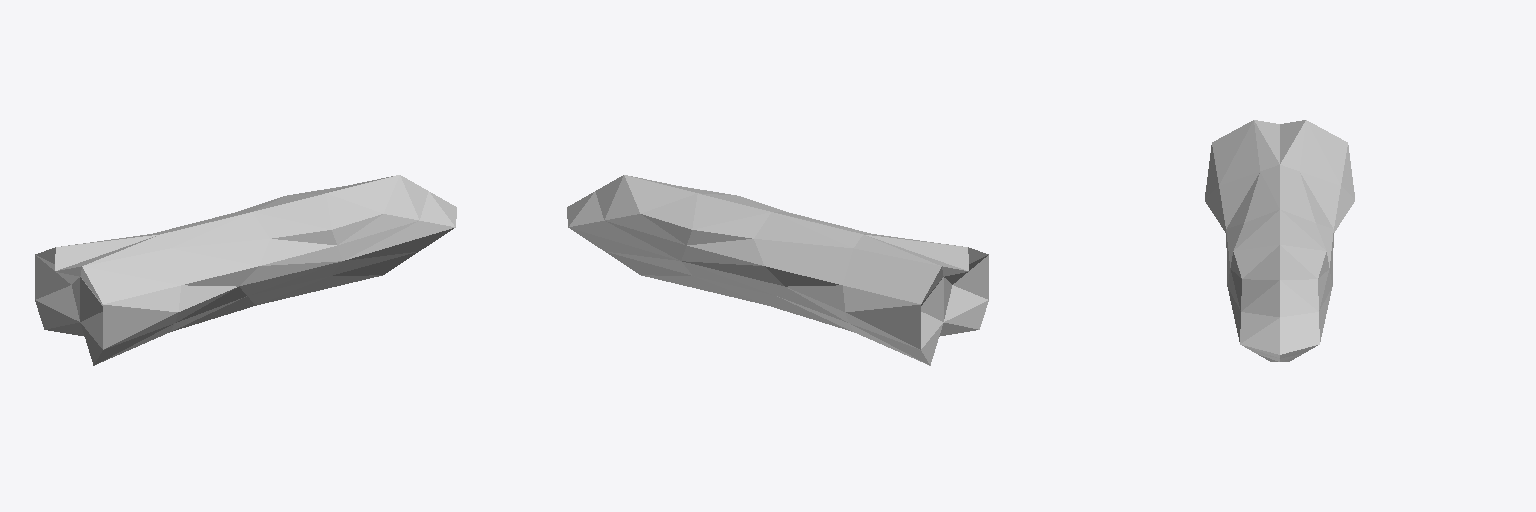
File: ship.obj
3 views of the same model, side by side, from view 1: azimuth 30°, elevation 25°; view 2: azimuth 150°, elevation 25°; view 3: azimuth 270°, elevation 25° (orthographic).
Parts seen in each view (by area): view 1: Ship; view 2: Ship; view 3: Ship.
Boxes of the visible parts, box(x1,y1,x2,y2) form: Ship: box(35, 175, 456, 365); Ship: box(567, 175, 988, 365); Ship: box(1205, 120, 1354, 361).
Size of the model in its own units: 2.32 by 0.5099 by 0.7546.